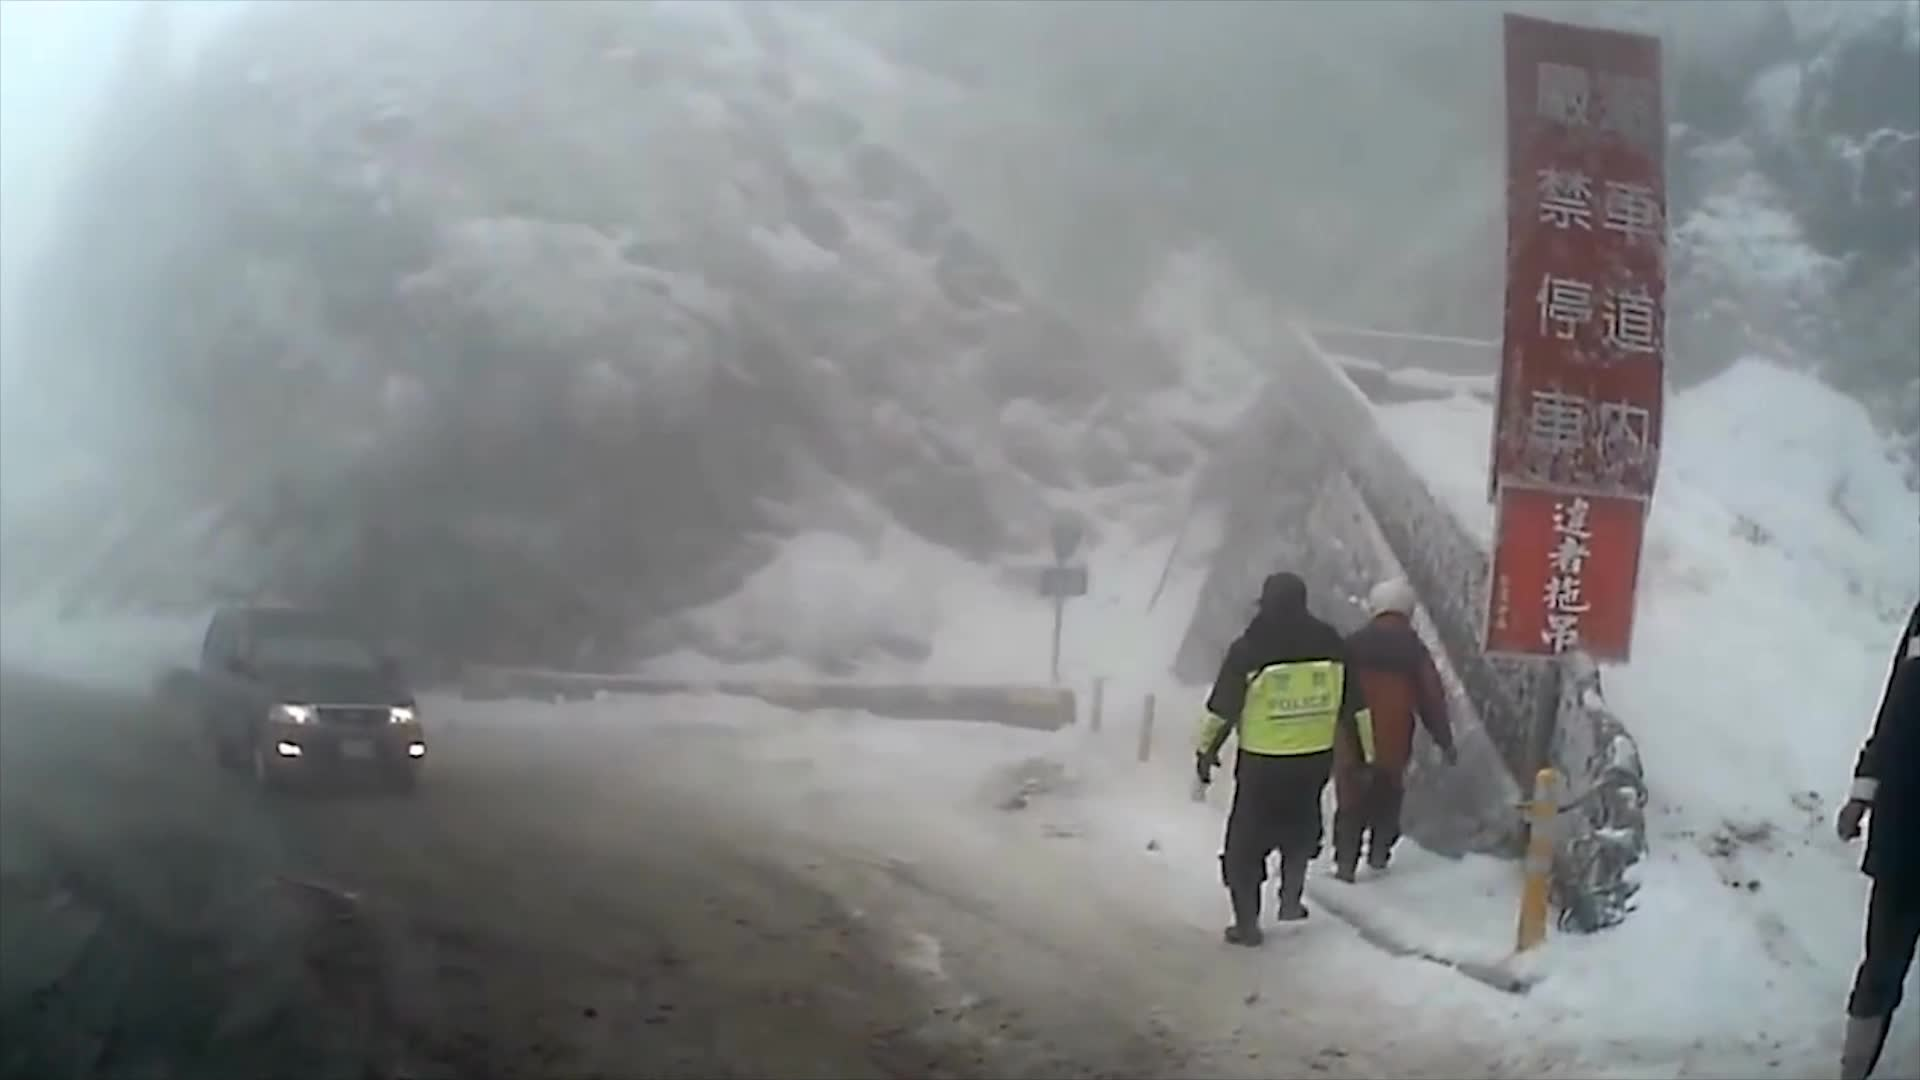pedestrian: (1192, 573, 1383, 952), (1326, 573, 1459, 883)
vehicle: (192, 601, 426, 797)
